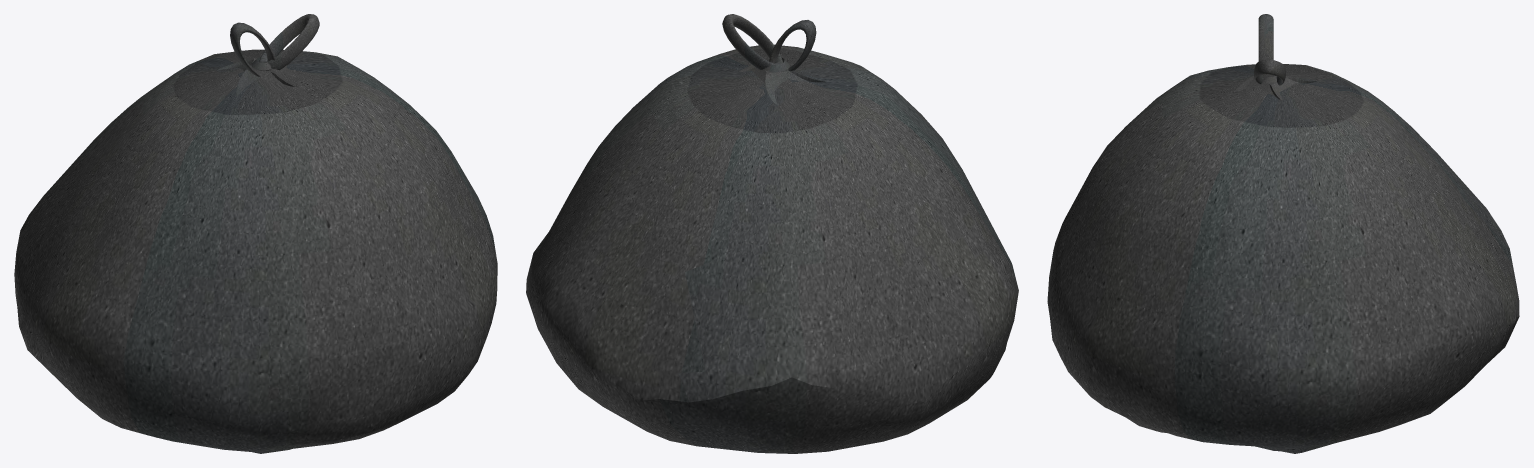
Rendered from Trash_Bag.fbx.
3 renders of one model, left to right at view 1: azimuth 30°, elevation 25°; view 2: azimuth 150°, elevation 25°; view 3: azimuth 270°, elevation 25°, orthographic. The views are drawn at different scales.
Visible parts, largest first — view 1: pPlatonic1, pTorus2, pGear1, pTorus1; view 2: pPlatonic1, pTorus2, pGear1, pTorus1; view 3: pPlatonic1, pTorus1, pGear1, pTorus2.
Part boxes in pixels (x1=…): pPlatonic1: x1=14, y1=49, x2=497, y2=453; pTorus2: x1=259, y1=14, x2=319, y2=70; pGear1: x1=216, y1=58, x2=295, y2=96; pTorus1: x1=230, y1=22, x2=276, y2=76; pPlatonic1: x1=526, y1=44, x2=1018, y2=453; pTorus2: x1=722, y1=14, x2=782, y2=69; pGear1: x1=739, y1=59, x2=826, y2=105; pTorus1: x1=769, y1=20, x2=816, y2=71; pPlatonic1: x1=1047, y1=64, x2=1519, y2=453; pTorus1: x1=1258, y1=14, x2=1273, y2=80; pGear1: x1=1233, y1=71, x2=1316, y2=100; pTorus2: x1=1254, y1=59, x2=1286, y2=85.
Size of the model in its own units: 22.14 by 19.48 by 21.9.
Materials: 1 (1 with a texture image).
